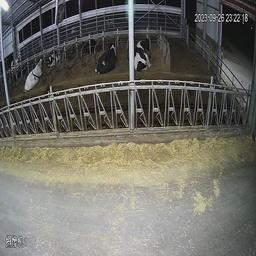cow: (95, 35, 117, 80), (25, 55, 48, 95), (134, 34, 156, 74), (46, 41, 62, 72), (78, 35, 98, 55)
